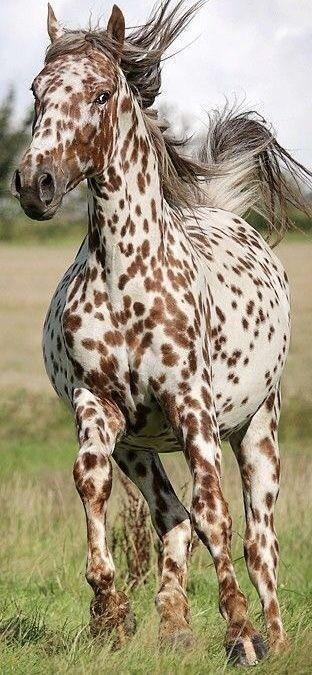horse: (11, 0, 310, 667)
